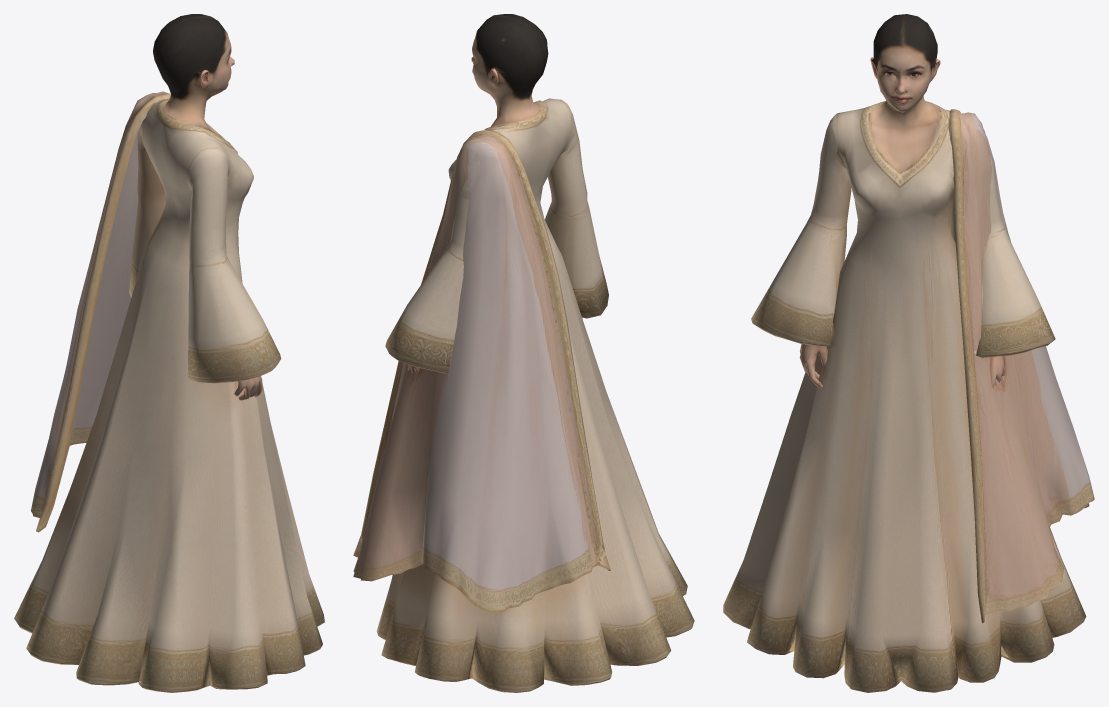
File: traditional dress 3d model.glb
The picture shows the model from 3 angles, left to right: view 1: azimuth 30°, elevation 25°; view 2: azimuth 150°, elevation 25°; view 3: azimuth 270°, elevation 25°; orthographic projection.
Parts seen in each view (by area): view 1: tripo_node_92f171af-3dc8-4eb4-8763-5d866520400f; view 2: tripo_node_92f171af-3dc8-4eb4-8763-5d866520400f; view 3: tripo_node_92f171af-3dc8-4eb4-8763-5d866520400f.
Part boxes in pixels (bbox=[...]): tripo_node_92f171af-3dc8-4eb4-8763-5d866520400f: bbox=[14, 14, 324, 692]; tripo_node_92f171af-3dc8-4eb4-8763-5d866520400f: bbox=[353, 14, 694, 692]; tripo_node_92f171af-3dc8-4eb4-8763-5d866520400f: bbox=[723, 14, 1094, 692].
Size of the model in its own units: 0.4551 by 0.998 by 0.5215.
Materials: 1 (1 with a texture image).
